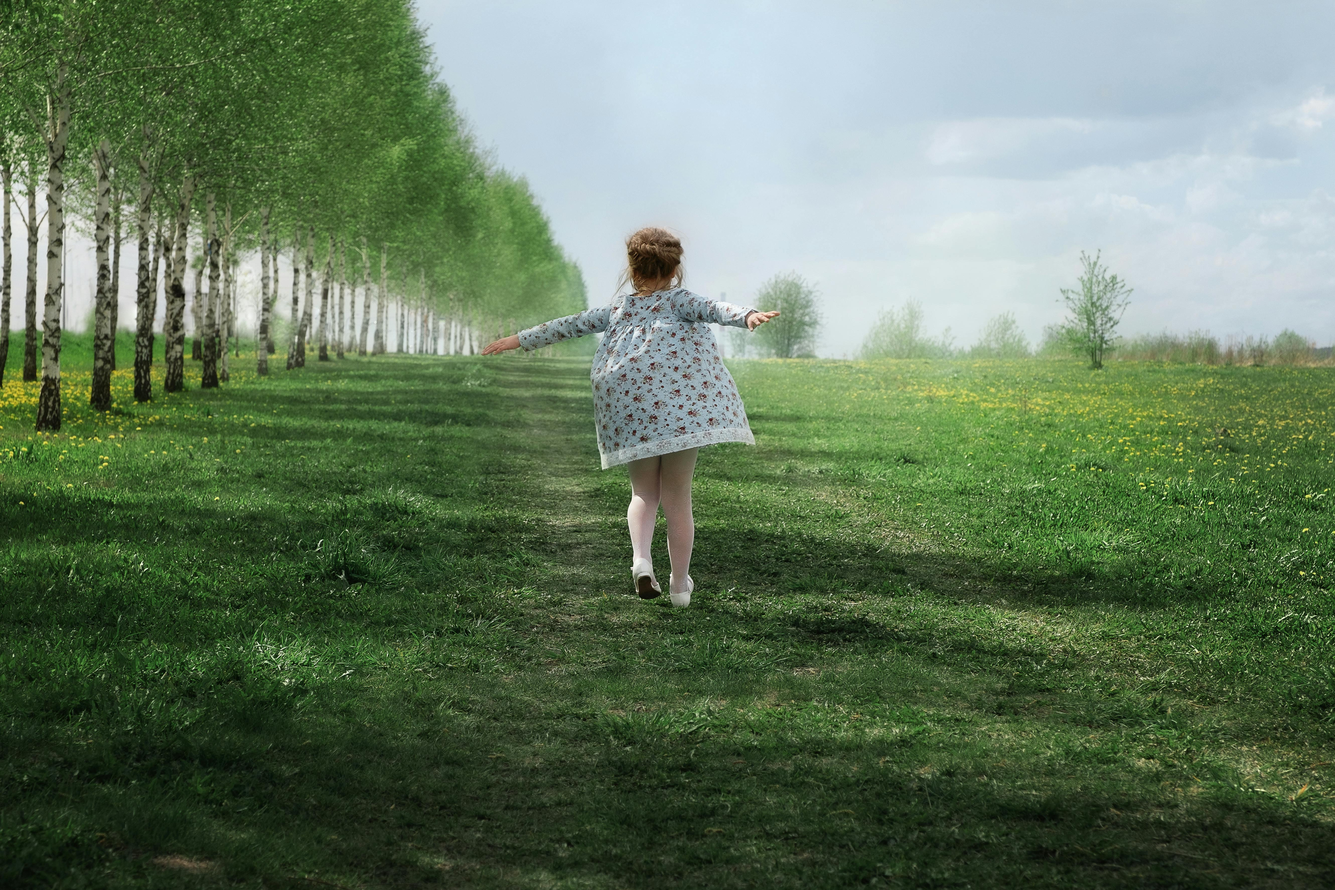NoHuman: (0, 0, 1335, 862)
